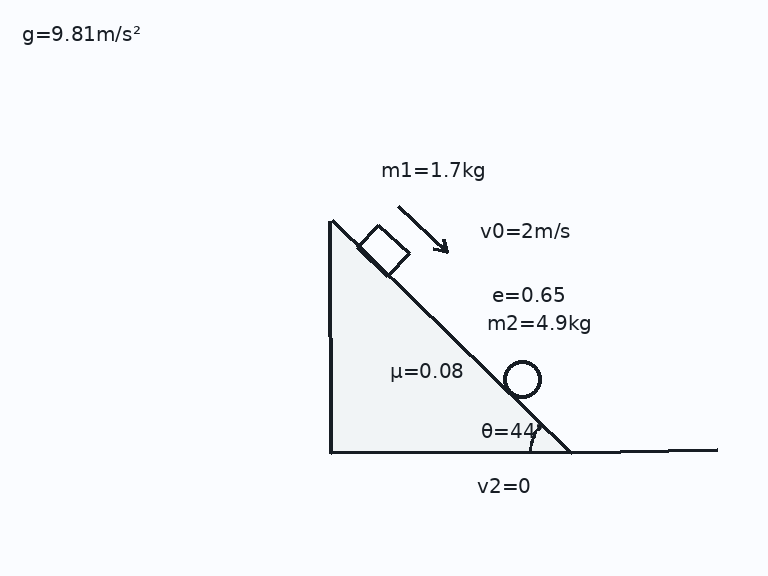ball: (501, 358, 543, 400)
block: (355, 222, 410, 277)
ramp: (328, 219, 572, 454)
